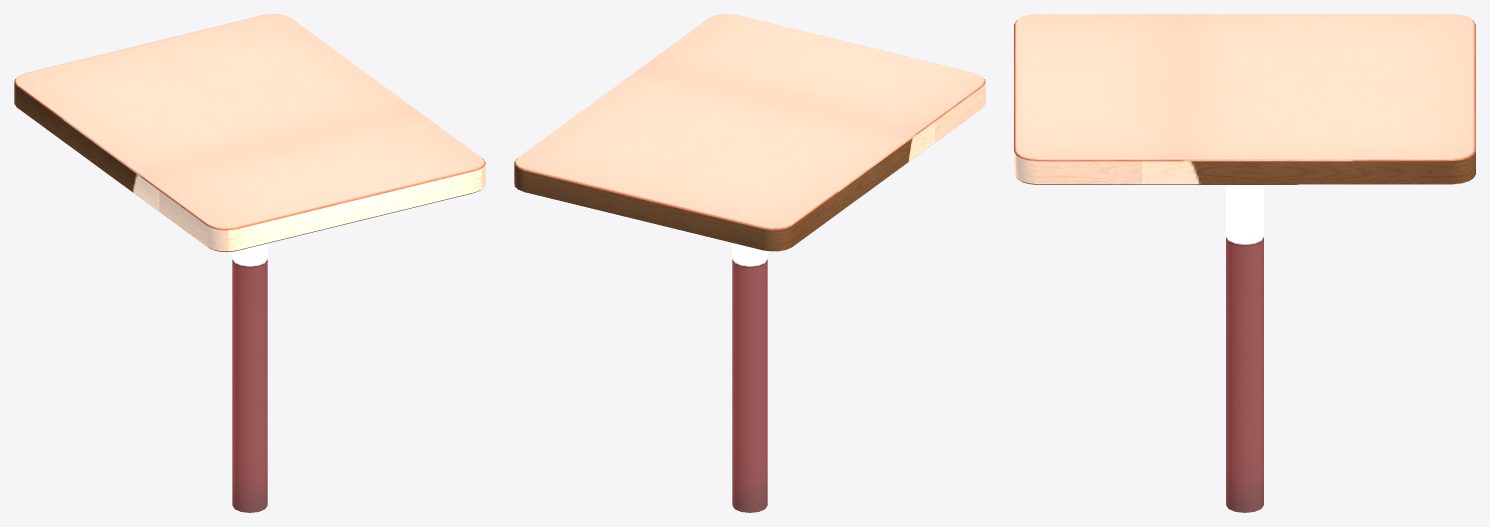
The model's file is SM_Table_01_Single.fbx.
The picture shows the model from 3 angles, left to right: view 1: azimuth 30°, elevation 25°; view 2: azimuth 150°, elevation 25°; view 3: azimuth 270°, elevation 25°; orthographic projection. The views are drawn at different scales.
Visible parts, largest first — view 1: SM_Table_01_Single_LOD0; view 2: SM_Table_01_Single_LOD0; view 3: SM_Table_01_Single_LOD0.
Part boxes in pixels (x1,y1,x2,y2): SM_Table_01_Single_LOD0: (14,14,485,512); SM_Table_01_Single_LOD0: (514,14,985,512); SM_Table_01_Single_LOD0: (1014,14,1475,512).
Bounding box in the file's own units: 60 × 80 × 80.
